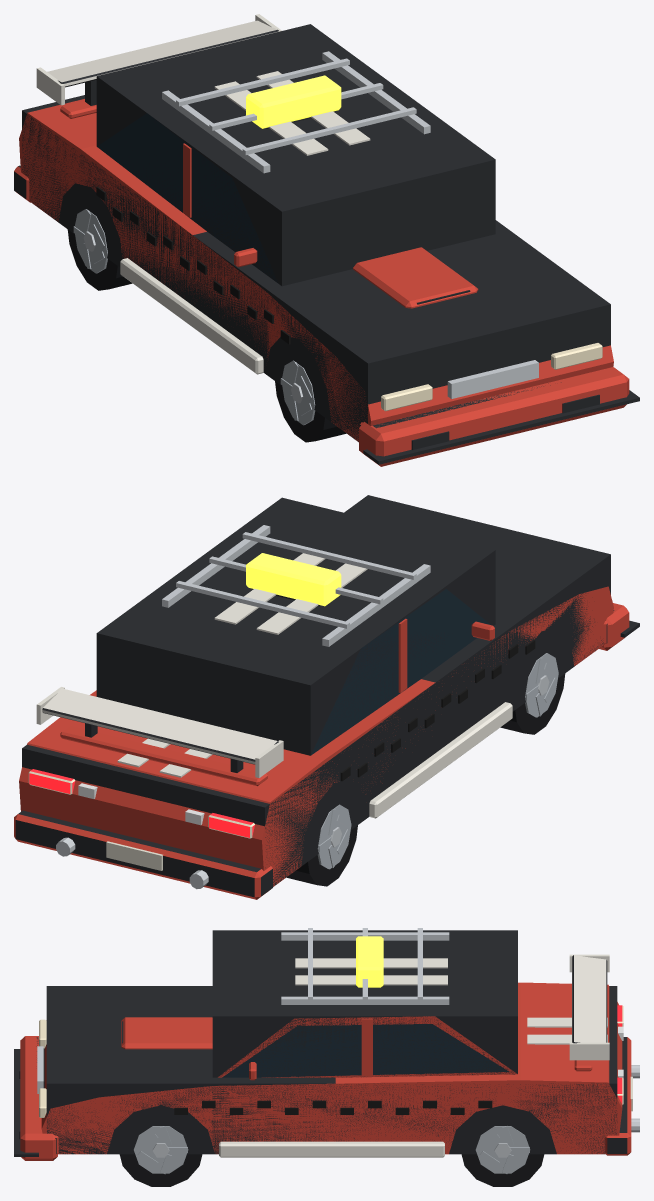
Rendered from VEH_Taxi.fbx.
3 renders of one model, top to bottom at view 1: azimuth 30°, elevation 25°; view 2: azimuth 150°, elevation 25°; view 3: azimuth 270°, elevation 25°, orthographic. The views are drawn at different scales.
Parts seen in each view (by area): view 1: VEH_Taxi__COL_Body, VEH_Taxi__COL_Cabin, VEH_Taxi__BODY, VEH_Taxi, VEH_Taxi__SIGN, VEH_Taxi__WHEEL_FR, VEH_Taxi__WHEEL_RR, VEH_Taxi__LIGHTS; view 2: VEH_Taxi__COL_Cabin, VEH_Taxi__BODY, VEH_Taxi__COL_Body, VEH_Taxi, VEH_Taxi__SIGN, VEH_Taxi__WHEEL_RR, VEH_Taxi__WHEEL_FR, VEH_Taxi__LIGHTS; view 3: VEH_Taxi__BODY, VEH_Taxi__COL_Body, VEH_Taxi__COL_Cabin, VEH_Taxi, VEH_Taxi__WHEEL_FL, VEH_Taxi__WHEEL_RL, VEH_Taxi__SIGN, VEH_Taxi__LIGHTS.
Boxes of the visible parts, left/top/right/bottom form: VEH_Taxi__COL_Body: left=22, top=95, right=610, bottom=441; VEH_Taxi__COL_Cabin: left=96, top=24, right=495, bottom=286; VEH_Taxi__BODY: left=14, top=99, right=613, bottom=442; VEH_Taxi: left=36, top=14, right=639, bottom=466; VEH_Taxi__SIGN: left=246, top=75, right=341, bottom=128; VEH_Taxi__WHEEL_FR: left=275, top=360, right=346, bottom=442; VEH_Taxi__WHEEL_RR: left=67, top=209, right=132, bottom=290; VEH_Taxi__LIGHTS: left=381, top=343, right=602, bottom=411; VEH_Taxi__COL_Cabin: left=96, top=497, right=495, bottom=755; VEH_Taxi__BODY: left=14, top=586, right=614, bottom=899; VEH_Taxi__COL_Body: left=22, top=495, right=610, bottom=886; VEH_Taxi: left=36, top=525, right=639, bottom=889; VEH_Taxi__SIGN: left=246, top=553, right=341, bottom=606; VEH_Taxi__WHEEL_RR: left=286, top=804, right=357, bottom=886; VEH_Taxi__WHEEL_FR: left=500, top=653, right=565, bottom=734; VEH_Taxi__LIGHTS: left=28, top=769, right=254, bottom=838; VEH_Taxi__BODY: left=36, top=982, right=632, bottom=1155; VEH_Taxi__COL_Body: left=46, top=986, right=617, bottom=1154; VEH_Taxi__COL_Cabin: left=212, top=930, right=517, bottom=1077; VEH_Taxi: left=14, top=928, right=639, bottom=1160; VEH_Taxi__WHEEL_FL: left=119, top=1126, right=202, bottom=1186; VEH_Taxi__WHEEL_RL: left=461, top=1126, right=544, bottom=1186; VEH_Taxi__SIGN: left=356, top=936, right=383, bottom=987; VEH_Taxi__LIGHTS: left=39, top=1005, right=623, bottom=1117.
Size of the model in its own units: 1.98 by 1.64 by 4.98.
